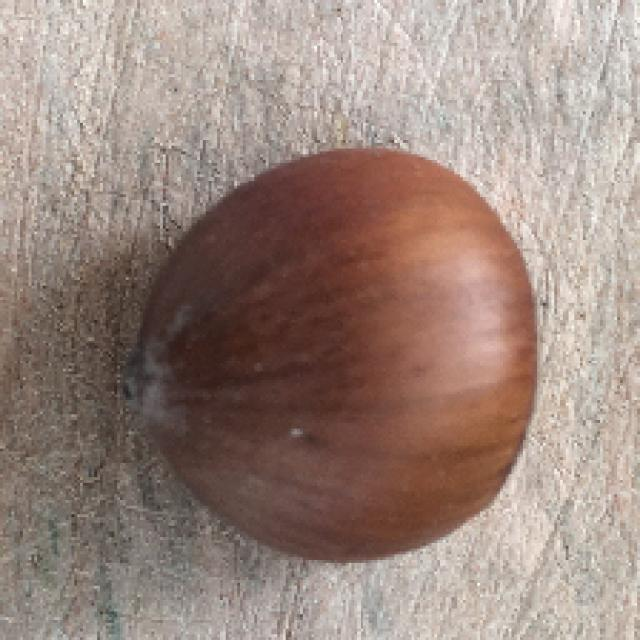damagedHazelnut: (109, 138, 540, 584)
